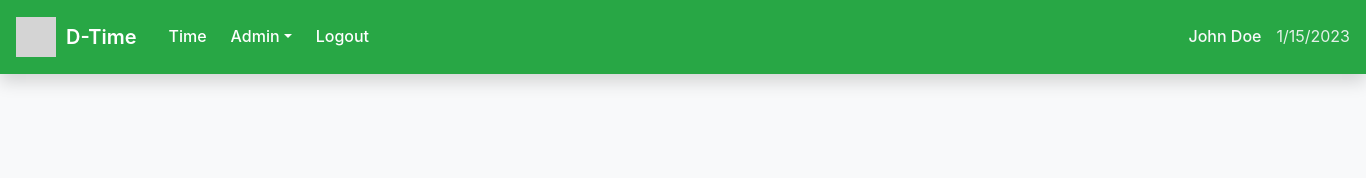
NavigationMenu › Edge cases and error handling › should handle admin property as falsy values
This screenshot has width=1366, height=178.
Need to click dropdown to see Report option
What coordinates should you click on to do the following:
click the button "Admin"
I would click on:
 (261, 37)
Its box is [223,16,300,58].
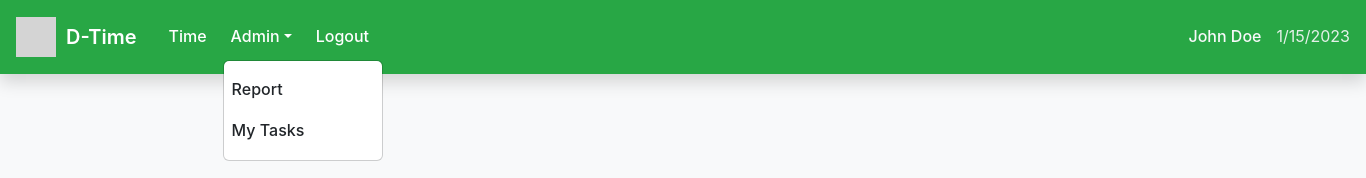
Check: the link "Report" is shown, box [232,79,283,99]
